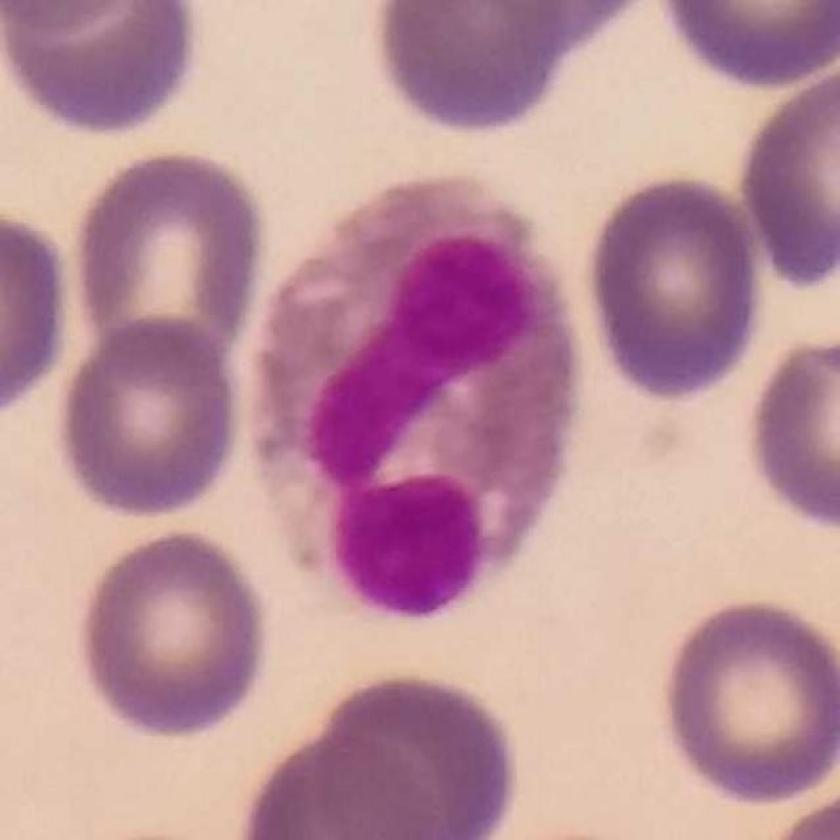eosinophil: (251, 172, 587, 626)
